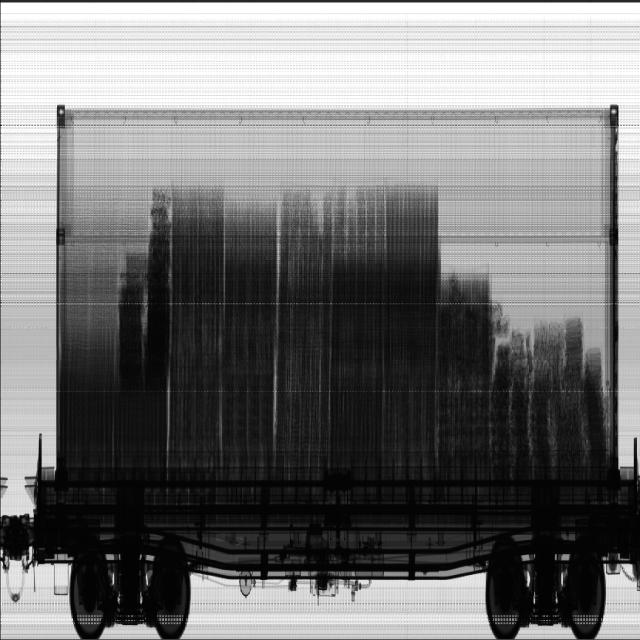textiles: (276, 184, 608, 462)
